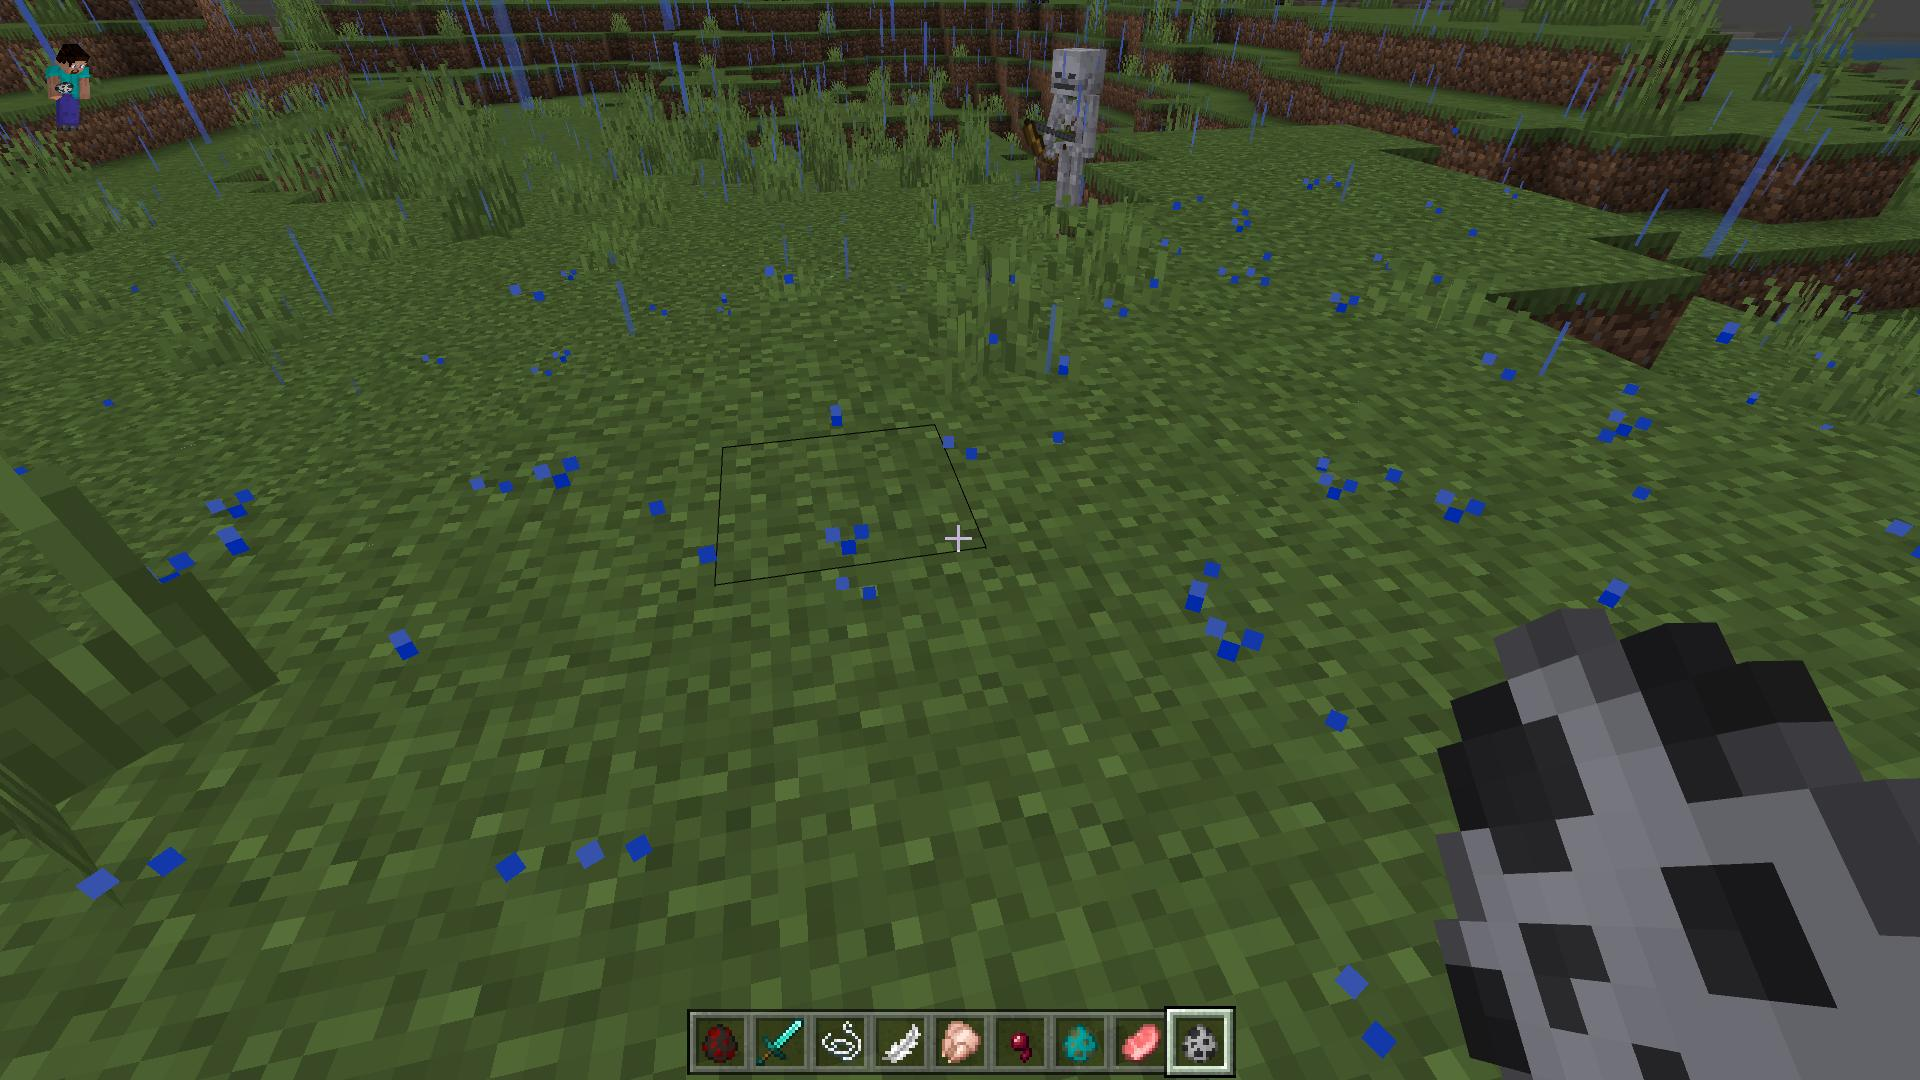skeleton: (1022, 42, 1108, 215)
